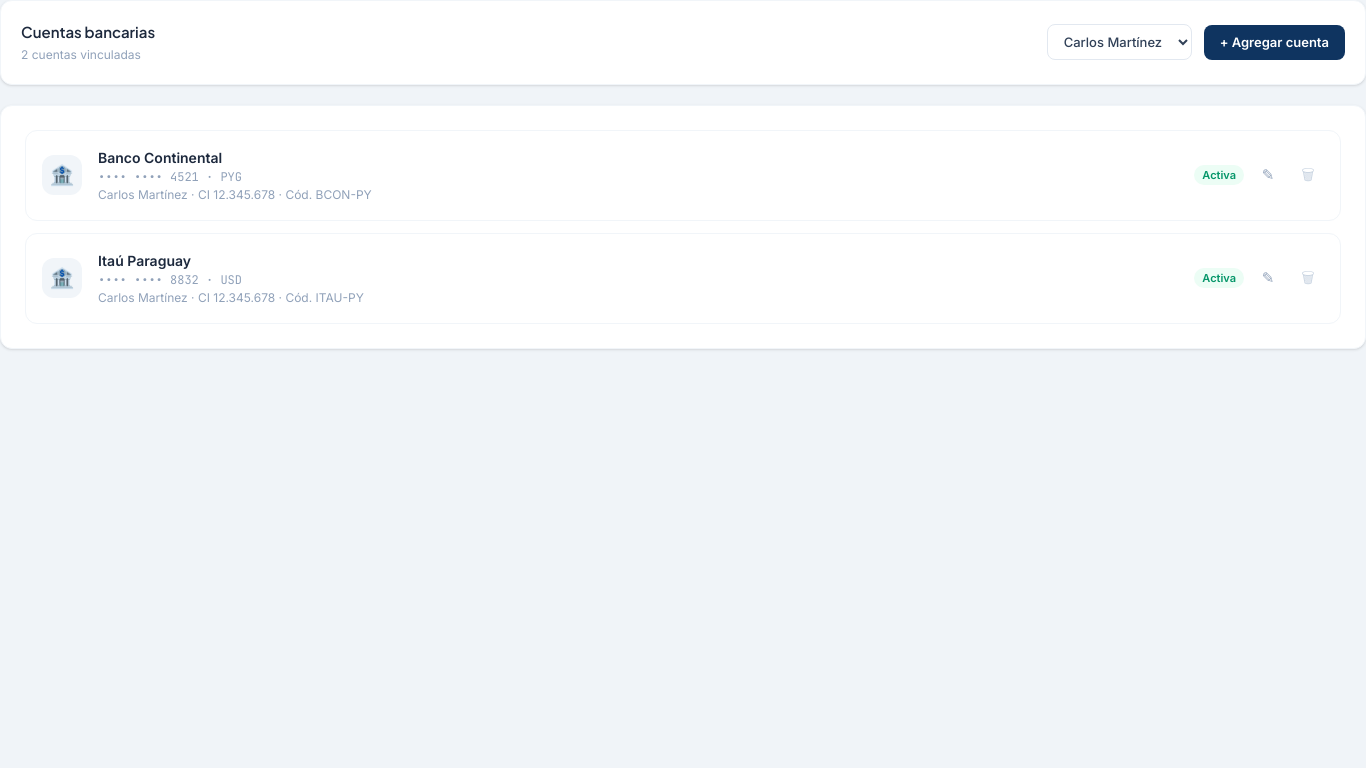
Banks (CRUD de medios de pago del cliente) › edita los datos de una cuenta existente
Expected: the text "Banco Continental" is shown, [98,148,222,166]
Click the button named "Editar cuenta Banco Continental". click: (1268, 175)
box: [1252,159,1284,191]
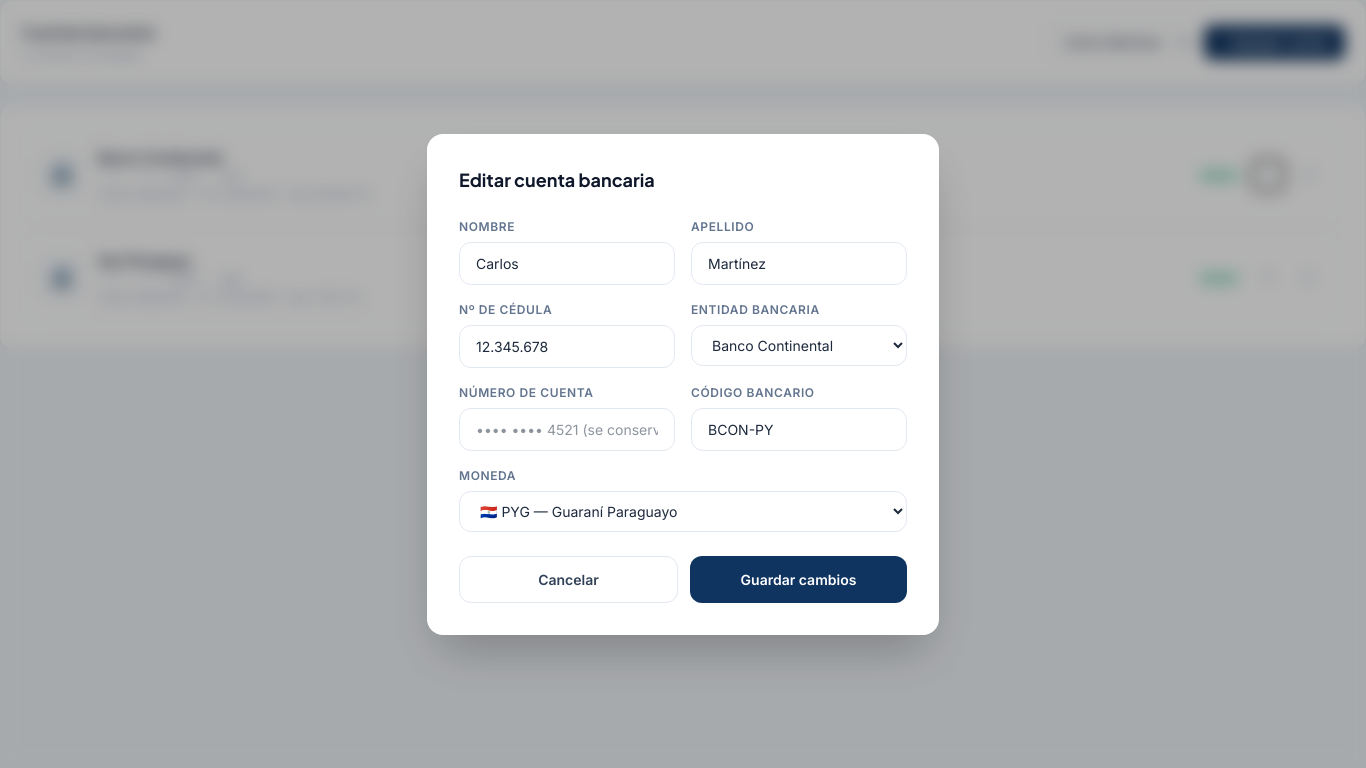
Now the heading "Editar cuenta bancaria" is shown, box [459,168,655,190]
Type "González" into the field labelled "Apellido". click: (799, 263)
box: [691,242,907,284]
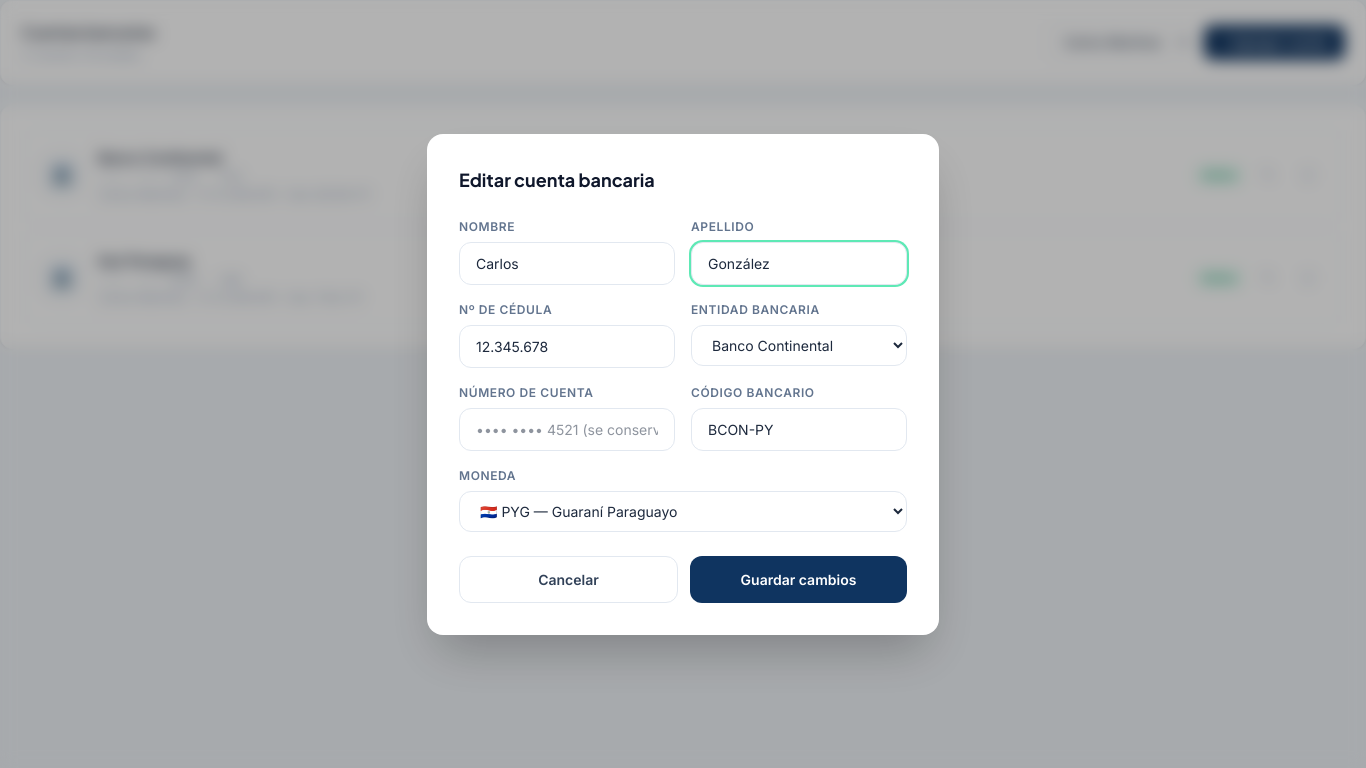
Click the button "Guardar cambios". click: (798, 579)
box: [690,556,907,602]
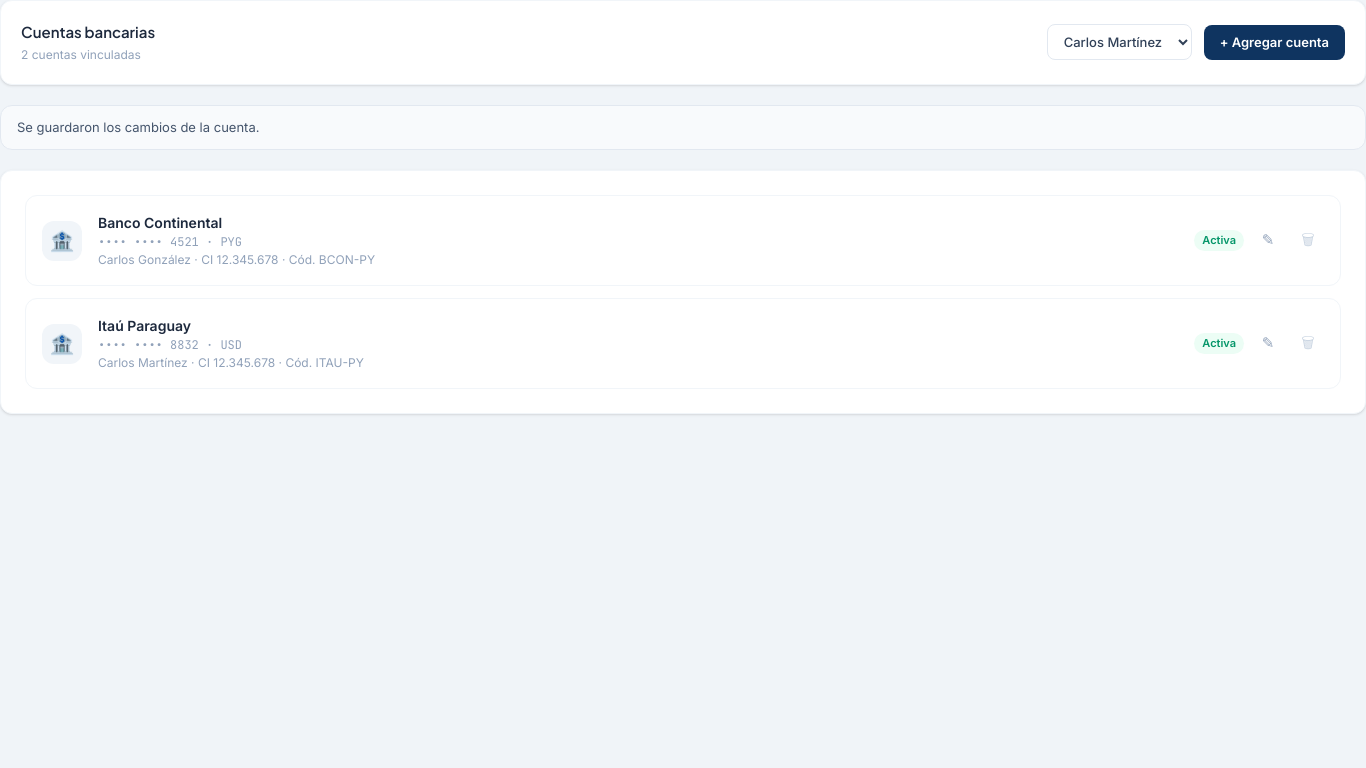
Expected: the text "2 cuentas vinculadas" is shown, [21,46,155,64]
Now the text "Carlos González · CI 12.345.678 · Cód. BCON-PY" is shown, box [98,252,375,267]
